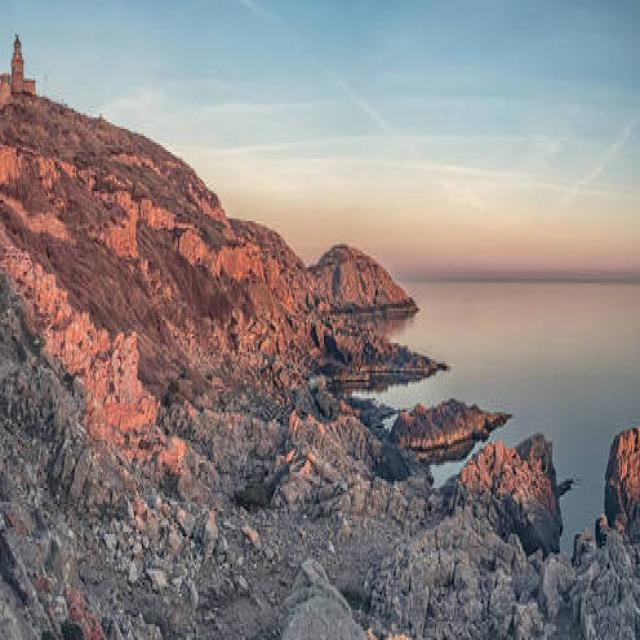reef: (389, 340, 640, 561)
